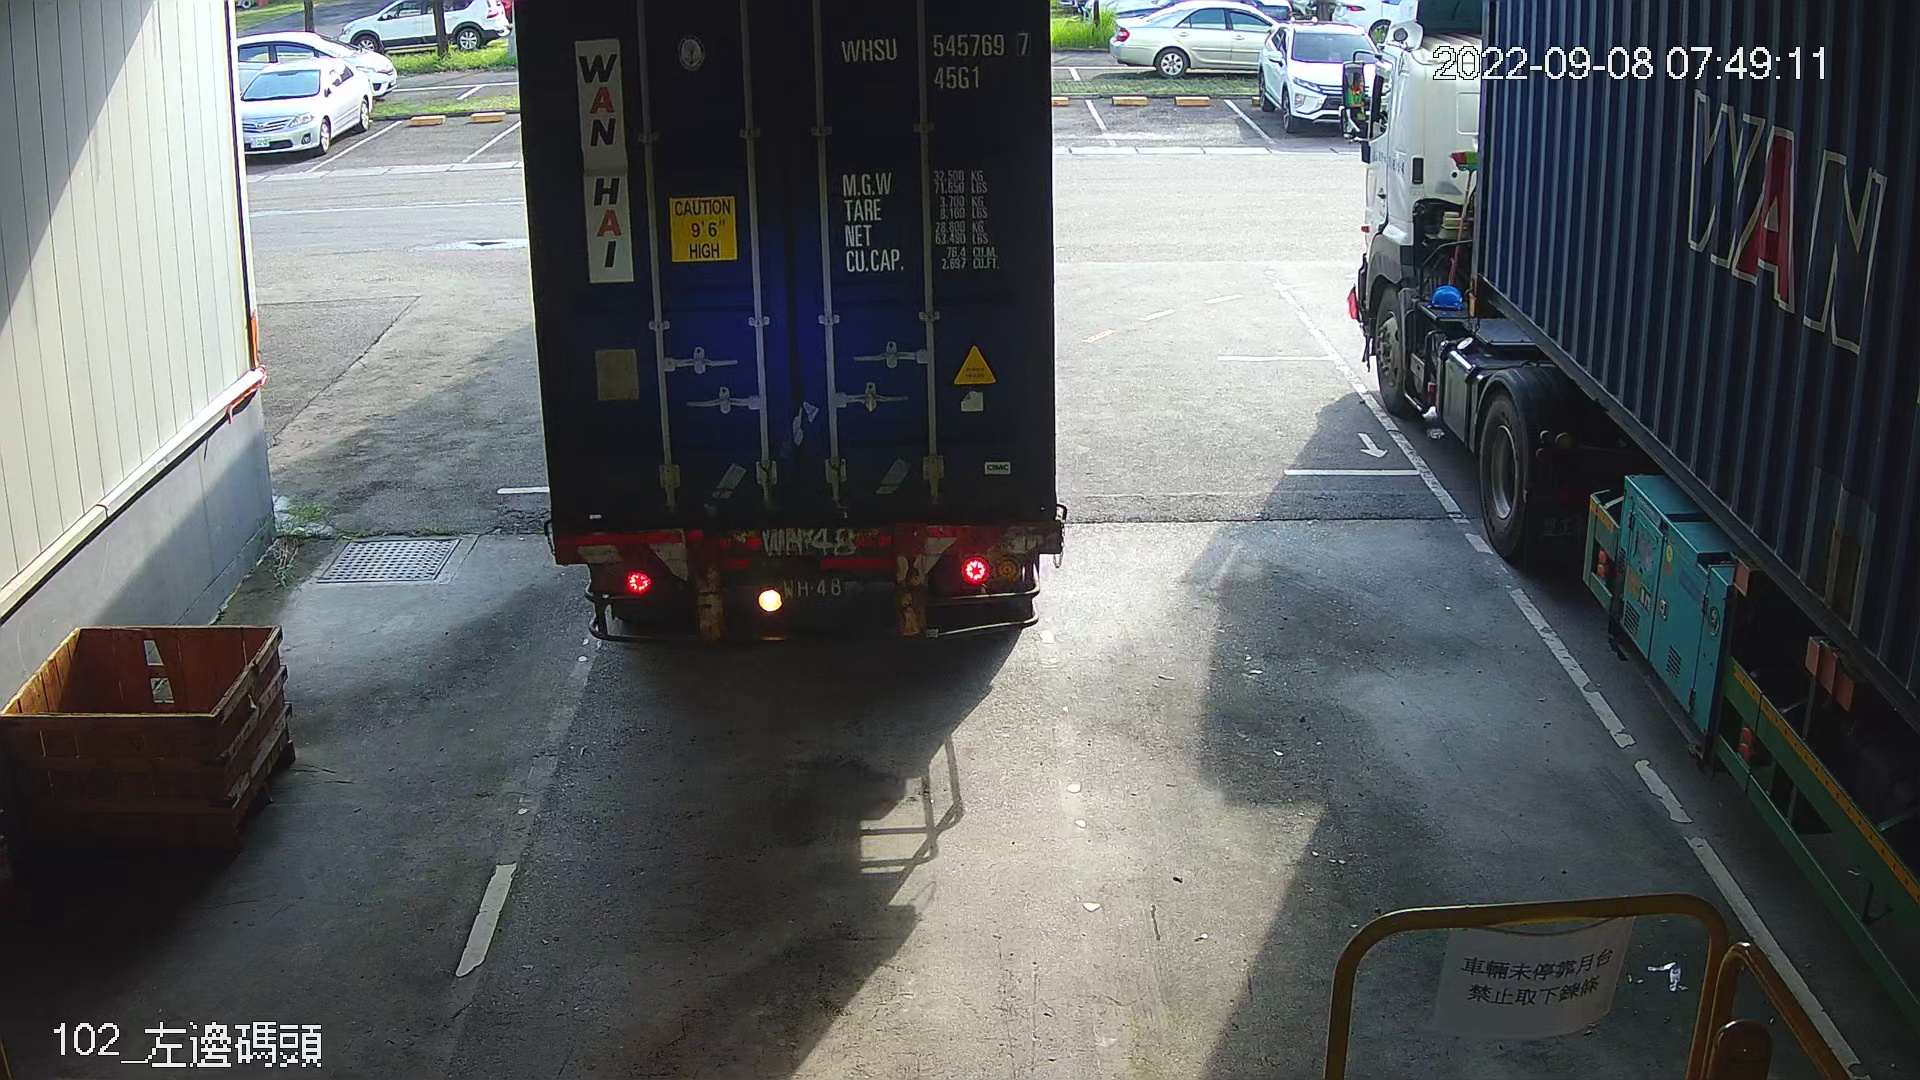container: (829, 22, 1039, 99)
